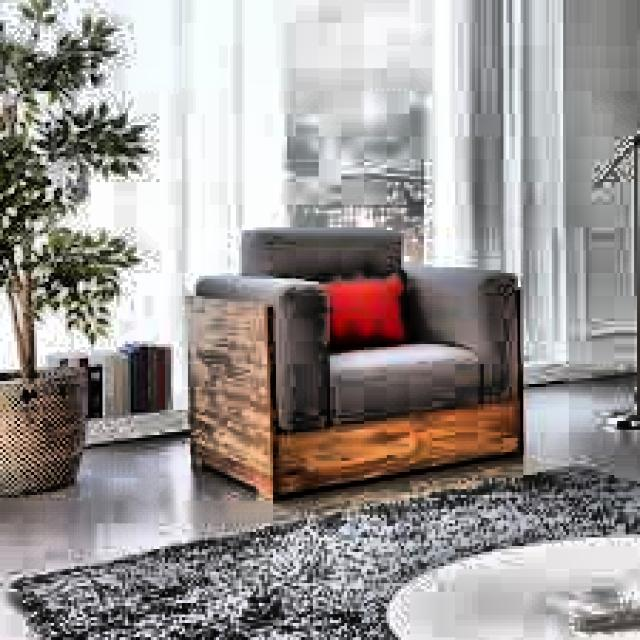sofa: (188, 219, 532, 492)
